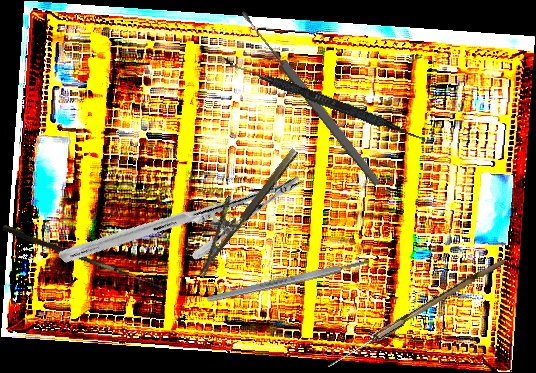Hook Surgical: (1, 224, 165, 289)
Needle Holder: (57, 92, 305, 346), (178, 135, 301, 278)
Scalpel Handle: (206, 257, 371, 304)
Spatula Surgical: (220, 57, 429, 144)
Surgical Spoon: (238, 8, 383, 188), (326, 254, 506, 372)
